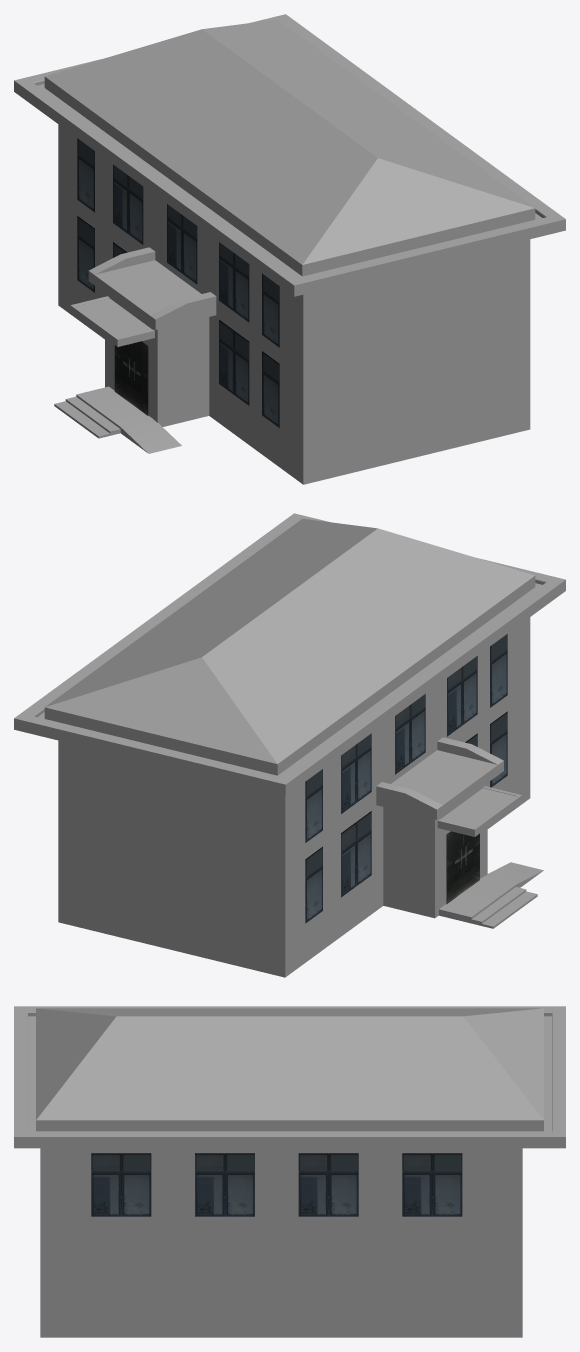
Rendered from DaoBanLou.fbx.
3 renders of one model, top to bottom at view 1: azimuth 30°, elevation 25°; view 2: azimuth 150°, elevation 25°; view 3: azimuth 270°, elevation 25°, orthographic.
Visible parts, largest first — view 1: DBL, Men, Chuang1, Chuang4, Chuang5, Chuang6, Chuang2, Chuang7, Chuang8, Chuang3; view 2: DBL, Chuang, Men, Chuang4, Chuang5, Chuang6, Chuang3, Chuang7, Chuang8, Chuang2; view 3: DBL, Chuang9, Chuang10, Chuang12, Chuang11.
Boxes of the visible parts, <box> form: DBL: <box>14,14,565,484</box>; Men: <box>114,341,148,415</box>; Chuang1: <box>219,320,249,405</box>; Chuang4: <box>219,242,249,322</box>; Chuang5: <box>113,164,143,244</box>; Chuang6: <box>167,204,197,284</box>; Chuang2: <box>262,351,279,427</box>; Chuang7: <box>262,273,279,347</box>; Chuang8: <box>77,138,94,212</box>; Chuang3: <box>77,216,94,292</box>; DBL: <box>14,513,565,977</box>; Chuang: <box>341,811,371,897</box>; Men: <box>446,831,479,904</box>; Chuang4: <box>447,656,477,736</box>; Chuang5: <box>341,733,371,813</box>; Chuang6: <box>395,694,425,774</box>; Chuang3: <box>305,846,322,923</box>; Chuang7: <box>490,634,507,707</box>; Chuang8: <box>305,769,322,842</box>; Chuang2: <box>490,711,507,787</box>; DBL: <box>14,1006,565,1337</box>; Chuang9: <box>402,1153,462,1216</box>; Chuang10: <box>298,1153,358,1216</box>; Chuang12: <box>91,1153,151,1216</box>; Chuang11: <box>195,1153,254,1216</box>.
Bounding box in the file's own units: 1027 × 748 × 1403.
Materials: 8 (1 with a texture image).
